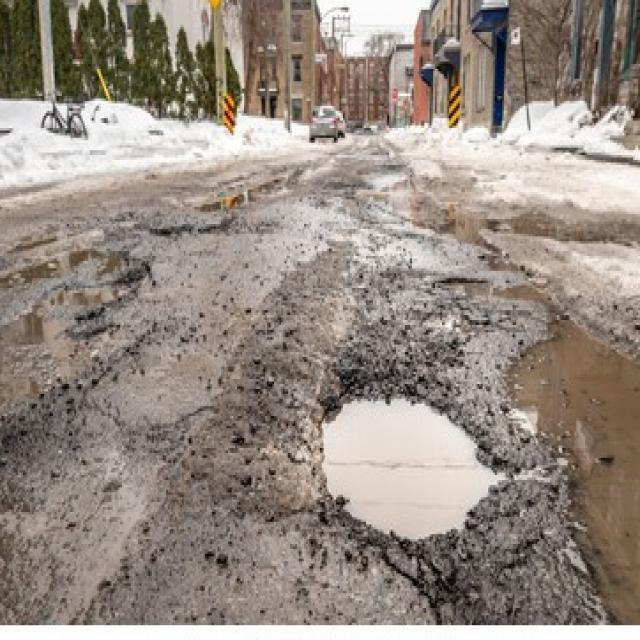Pothole: (312, 374, 508, 546), (438, 276, 496, 298)
